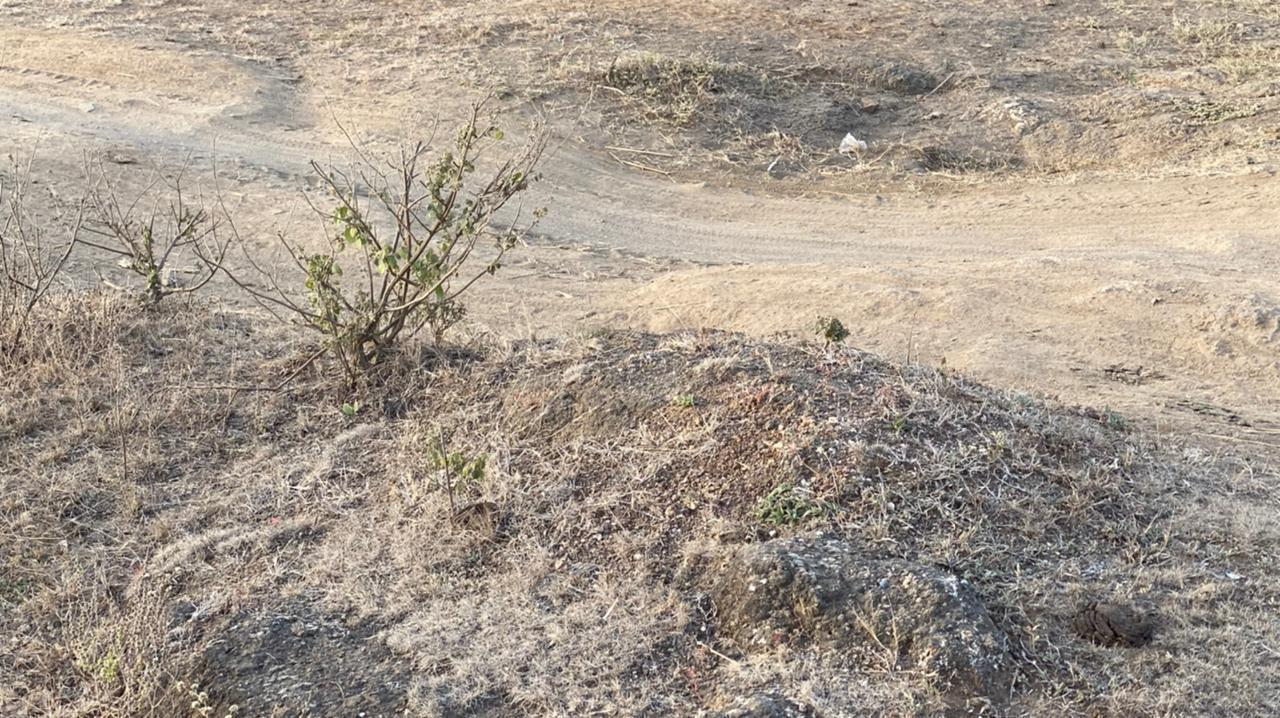vehicle_track: (0, 50, 1280, 281)
